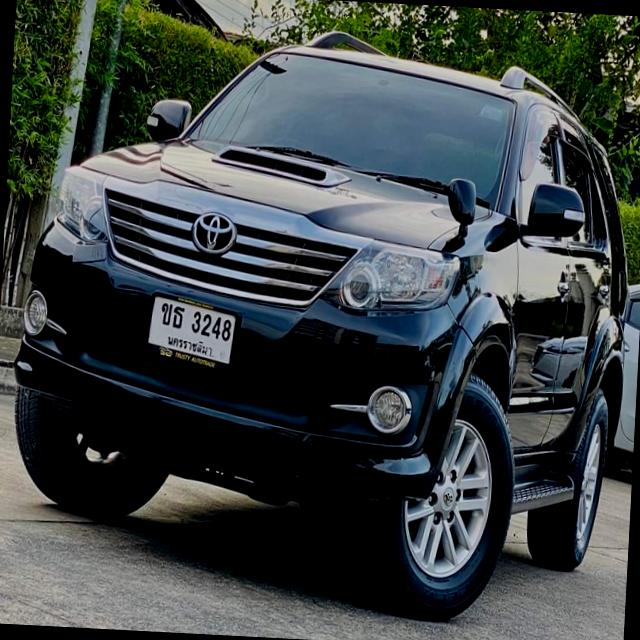license_plate: (146, 288, 241, 374)
